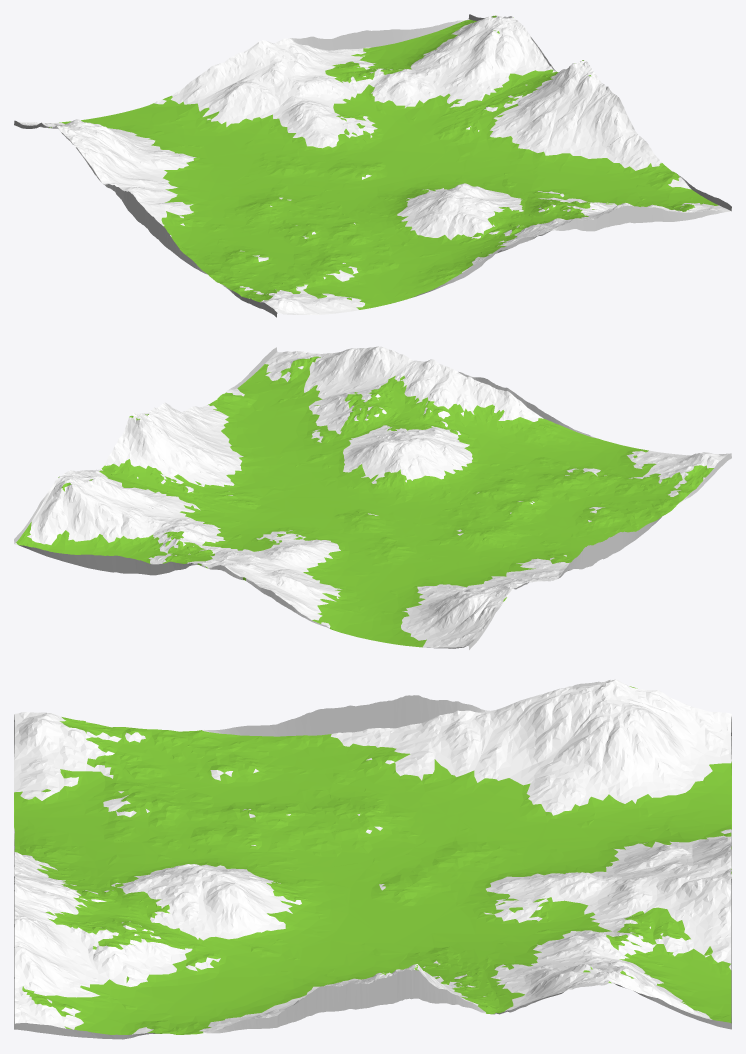
The model's file is terrain.glb.
3 views of the same model, one above another, from view 1: azimuth 30°, elevation 25°; view 2: azimuth 150°, elevation 25°; view 3: azimuth 270°, elevation 25° (orthographic). The views are drawn at different scales.
Visible parts, largest first — view 1: Plane; view 2: Plane; view 3: Plane.
Part boxes in pixels (x1=…): Plane: x1=14, y1=14, x2=731, y2=317; Plane: x1=14, y1=346, x2=731, y2=649; Plane: x1=14, y1=679, x2=731, y2=1039.
Bounding box in the file's own units: 20.01 × 2.25 × 20.
